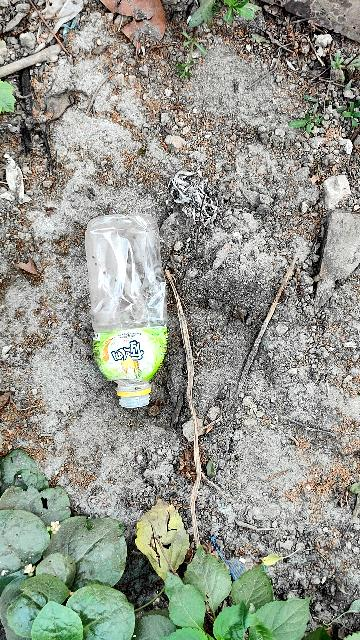bottle: (79, 214, 177, 412)
